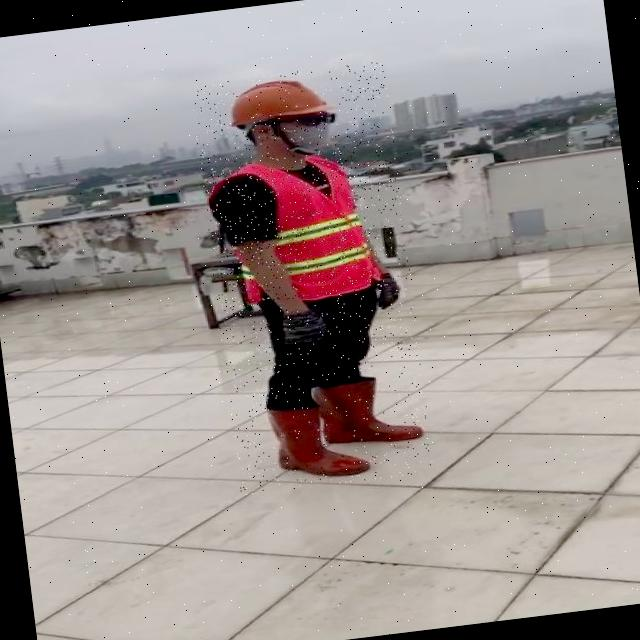boots: (259, 392, 373, 486), (314, 369, 402, 452)
helmet: (222, 72, 330, 128)
vest: (204, 153, 378, 309)
